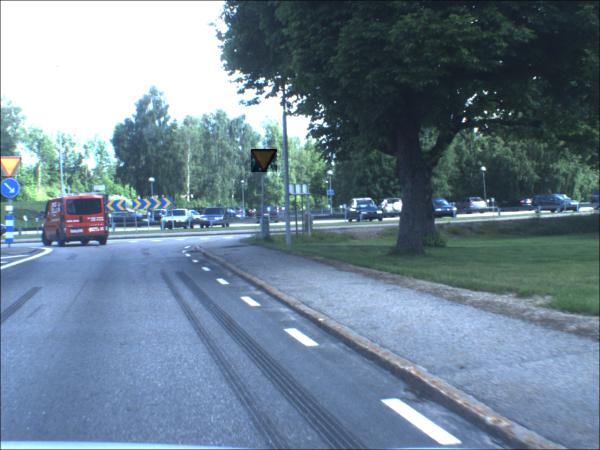GIVE_WAY: (252, 151, 279, 175), (2, 157, 22, 178)
PASS_RIGHT_SIDE: (3, 180, 22, 199)
